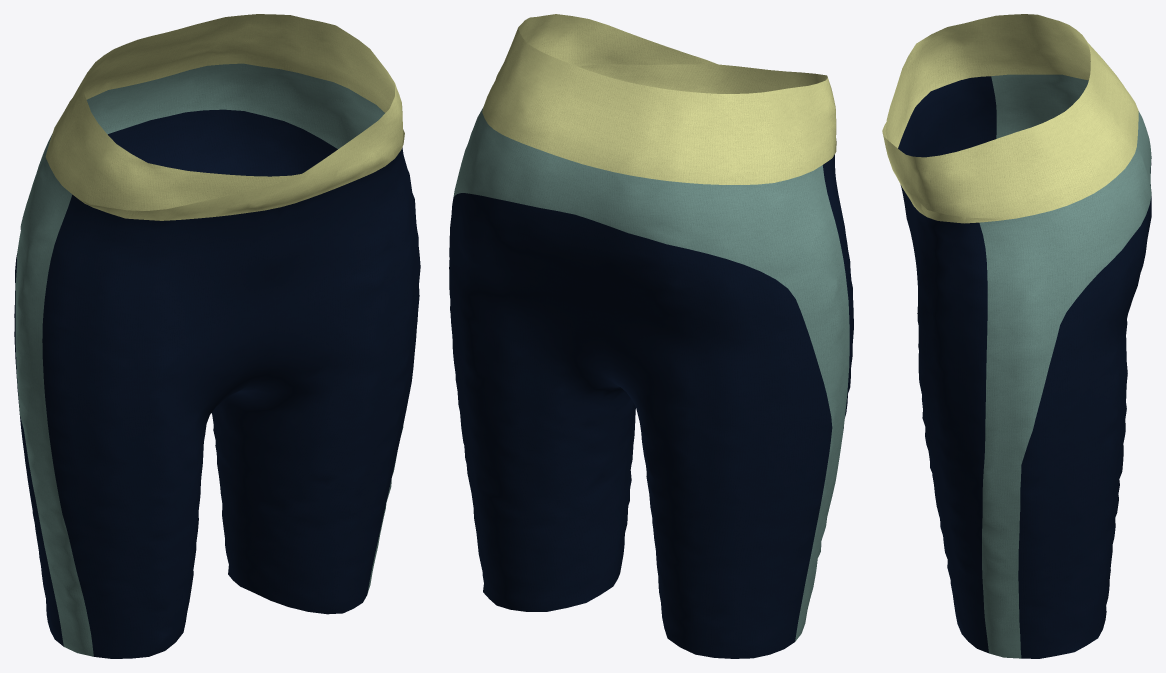
3 renders of one model, left to right at view 1: azimuth 30°, elevation 25°; view 2: azimuth 150°, elevation 25°; view 3: azimuth 270°, elevation 25°, orthographic. The views are drawn at different scales.
Visible parts, largest first — view 1: BodyBottom; view 2: BodyBottom; view 3: BodyBottom.
Part boxes in pixels (<box>): BodyBottom: <box>14,14,420,658</box>; BodyBottom: <box>449,14,853,658</box>; BodyBottom: <box>882,14,1151,658</box>.
Size of the model in its own units: 0.2998 by 0.4184 by 0.1938.
8 materials, 8 textured.
